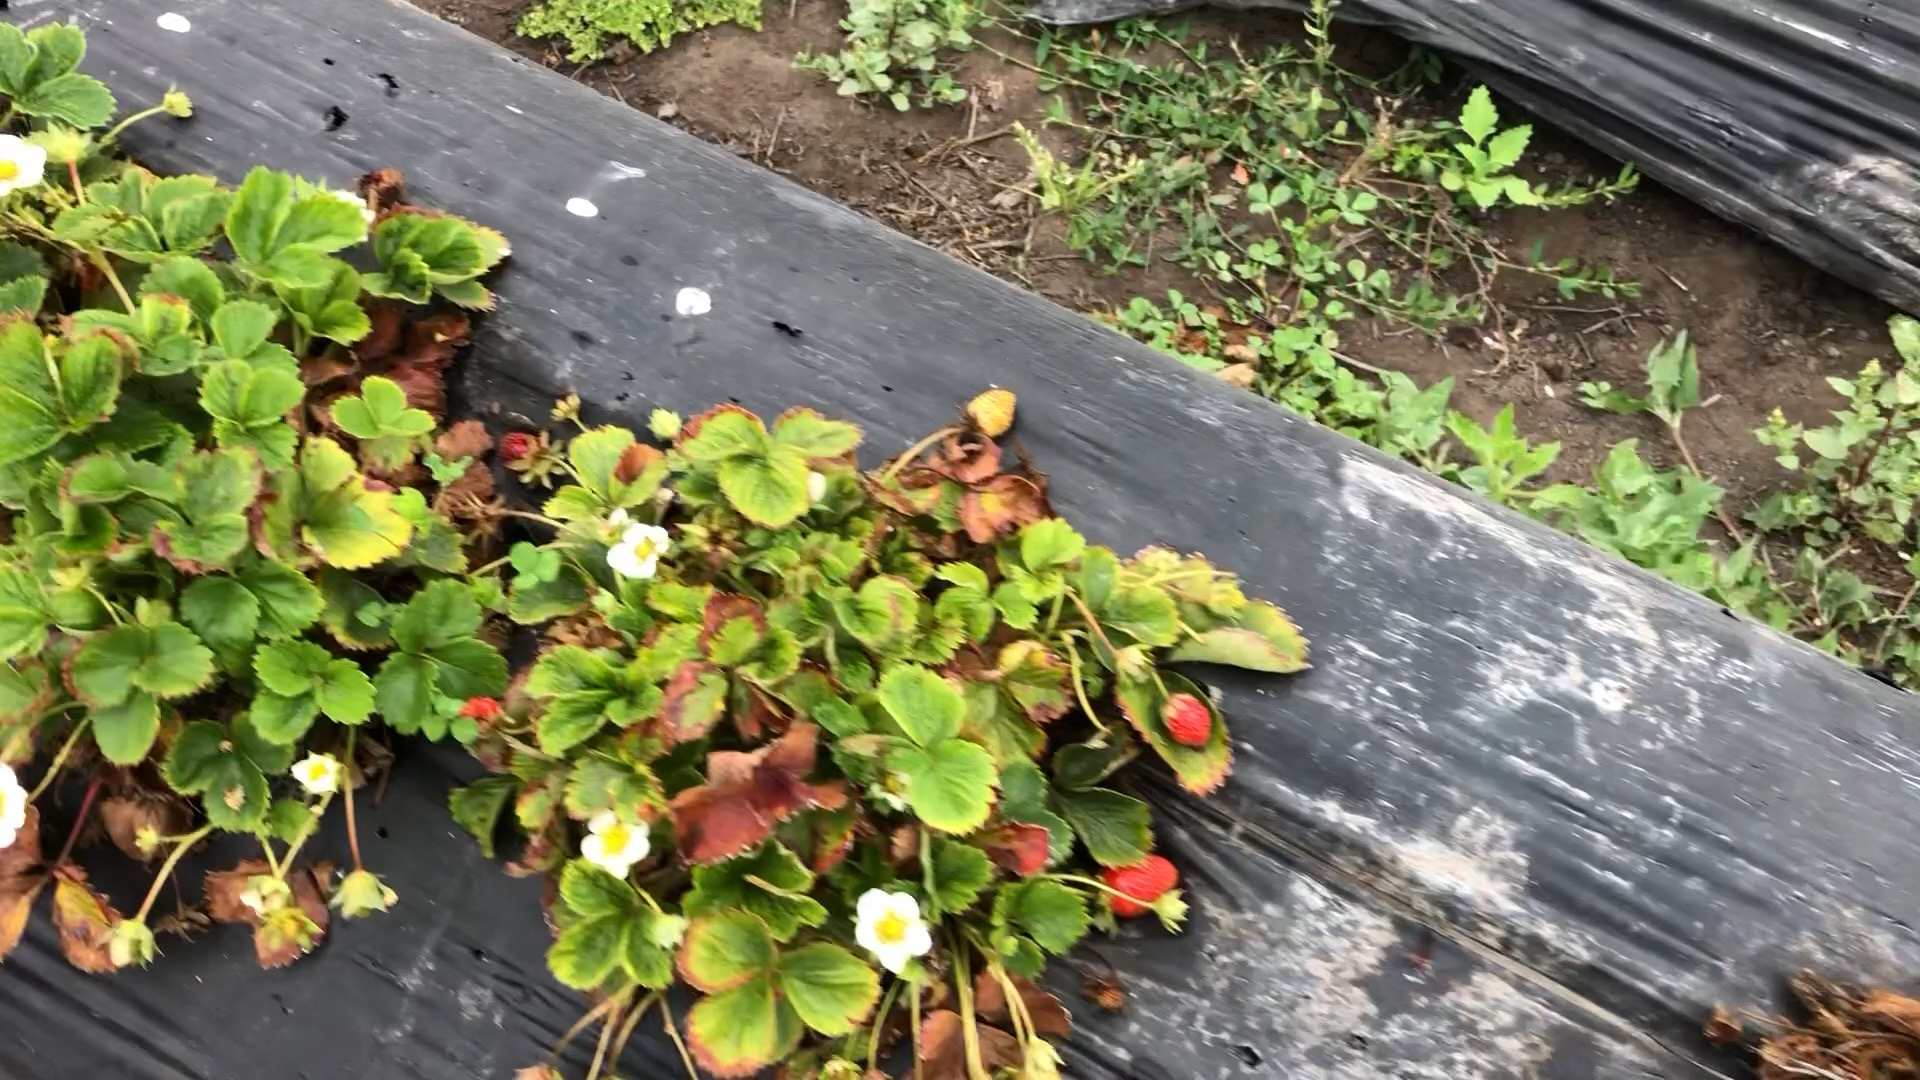ripe_strawberry: (1095, 851, 1182, 923), (1160, 690, 1217, 752), (497, 431, 555, 477)
